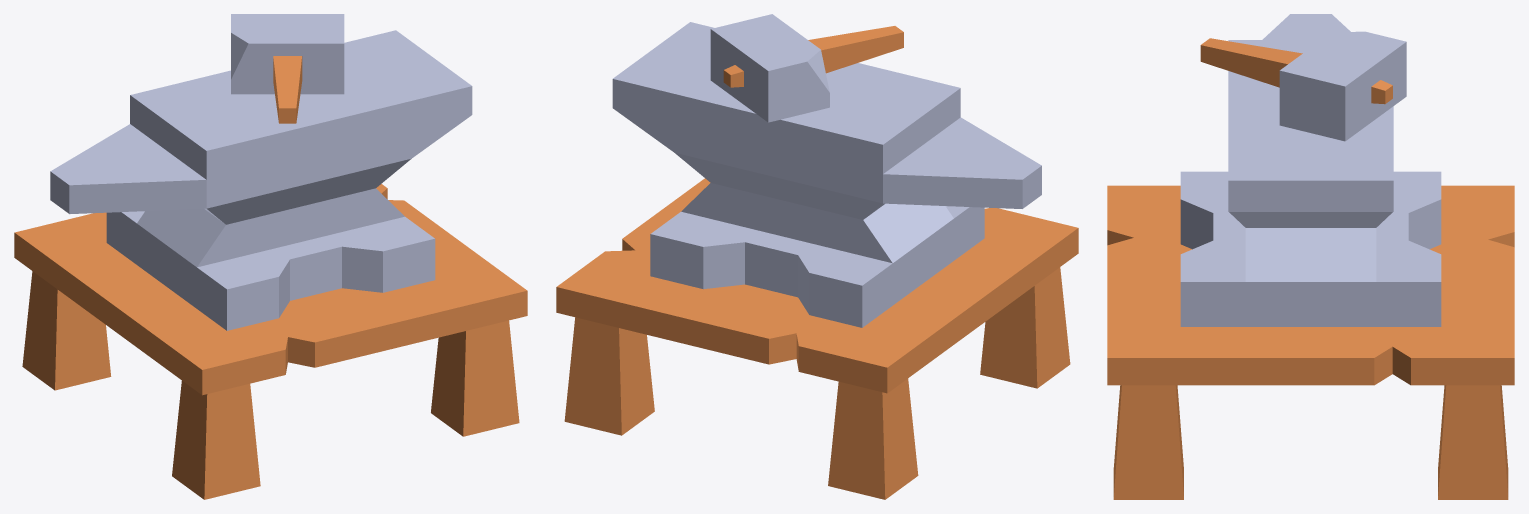
File: workbenchAnvil.dae
3 views of the same model, side by side, from view 1: azimuth 30°, elevation 25°; view 2: azimuth 150°, elevation 25°; view 3: azimuth 270°, elevation 25° (orthographic). The views are drawn at different scales.
Visible parts, largest first — view 1: workbenchAnvil, hammer; view 2: workbenchAnvil, hammer; view 3: workbenchAnvil, hammer.
Boxes of the visible parts, x1=… form: workbenchAnvil: x1=14, y1=30, x2=527, y2=499; hammer: x1=231, y1=14, x2=344, y2=123; workbenchAnvil: x1=556, y1=22, x2=1078, y2=499; hammer: x1=710, y1=14, x2=903, y2=122; workbenchAnvil: x1=1107, y1=14, x2=1514, y2=499; hammer: x1=1200, y1=31, x2=1406, y2=141.
Size of the model in its own units: 0.3092 by 0.2745 by 0.2688.
